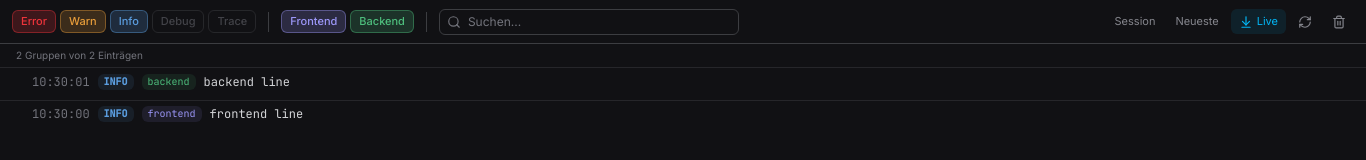
Test: LogViewer — toolbar interactions › filters by source when a source button is toggled off
This screenshot has width=1366, height=160.
Expected: the text "frontend line" is shown, [210,106,303,122]
Expected: the text "backend line" is shown, [204,74,290,90]
Click the button "Backend": {"x": 382, "y": 22} [350,10,414,33]
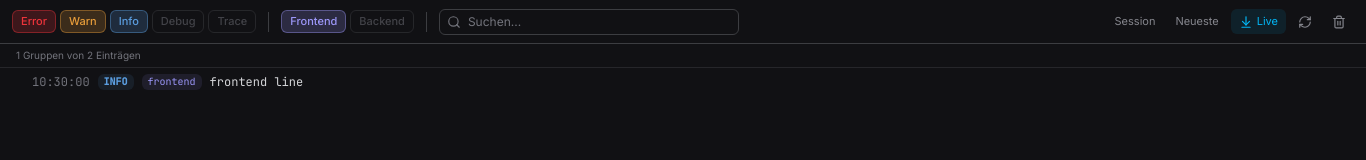
Expected: the text "frontend line" is shown, [210,74,303,90]
Expected: the text "backend line" is gone
